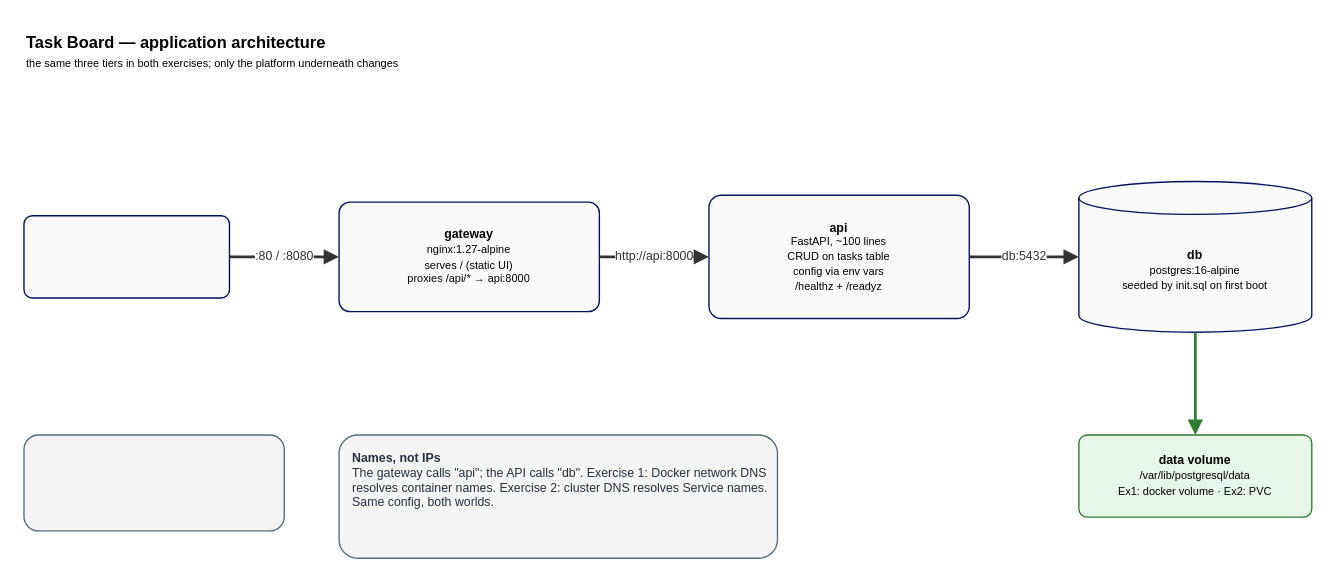
This 1336x582 diagram has some shape labels left out. The shapes that lost their labels are listed below. From the top down, each one's centre as x and y in pixels, then its label:
the point at 126,256: Browser static UI + fetch /api/*
the point at 153,482: Legend ⬜ component (a container) 🟩 persistent state — survives containers
